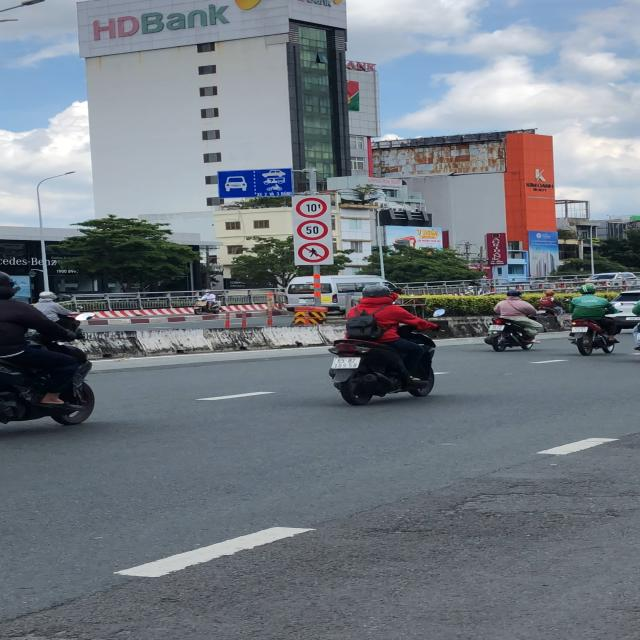Bien bao toc do toi da cho phep: (293, 219, 334, 242)
